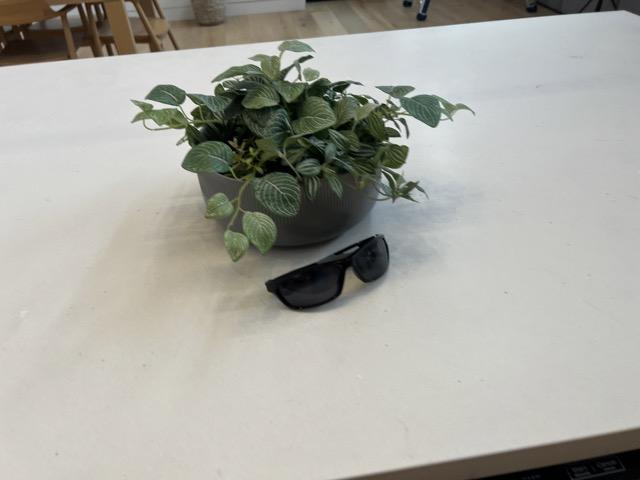Sunglasses: (267, 231, 390, 312)
